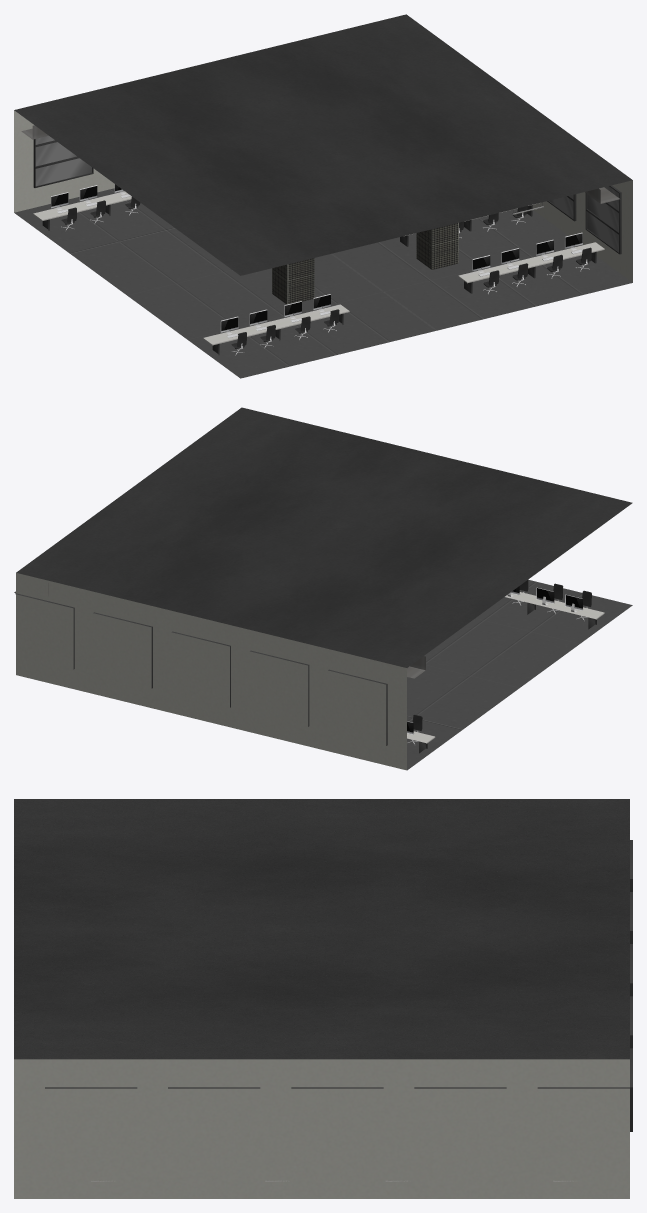
The model's file is cluster_corner_left.dae.
The picture shows the model from 3 angles, top to bottom: view 1: azimuth 30°, elevation 25°; view 2: azimuth 150°, elevation 25°; view 3: azimuth 270°, elevation 25°; orthographic projection. The views are drawn at different scales.
Visible parts, largest first — view 1: cluster0; view 2: cluster0; view 3: cluster0.
Boxes of the visible parts, x1,y1,x2,y2 form: cluster0: (14, 14, 632, 378); cluster0: (14, 407, 632, 770); cluster0: (14, 799, 632, 1198).
Bounding box in the file's own units: 20.11 × 20.11 × 5.02.
Materials: 1 (1 with a texture image).
